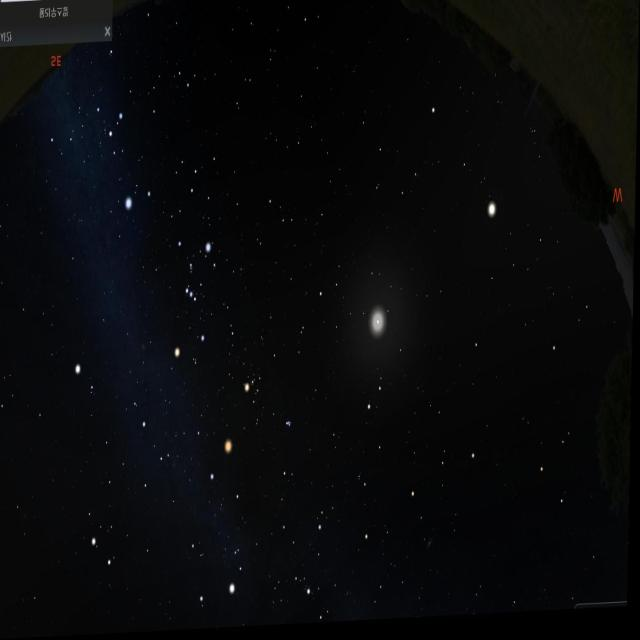canis_major: (106, 98, 168, 208)
canis_minor: (70, 348, 100, 403)
gemini: (85, 410, 182, 586)
moon: (356, 300, 394, 361)
orion: (178, 228, 217, 356)
pleiades: (280, 411, 299, 439)
taurus: (242, 350, 310, 455)
